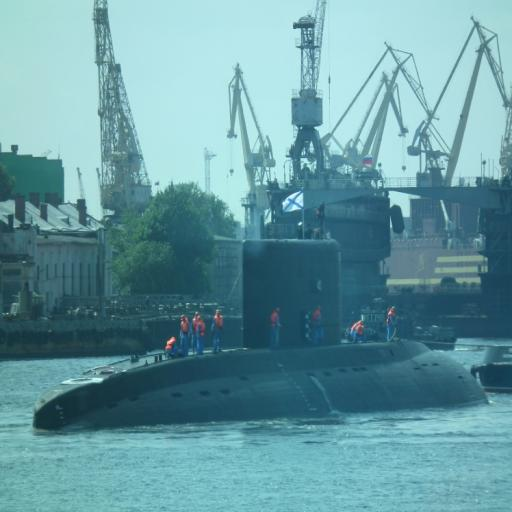submarine: (34, 241, 494, 430)
